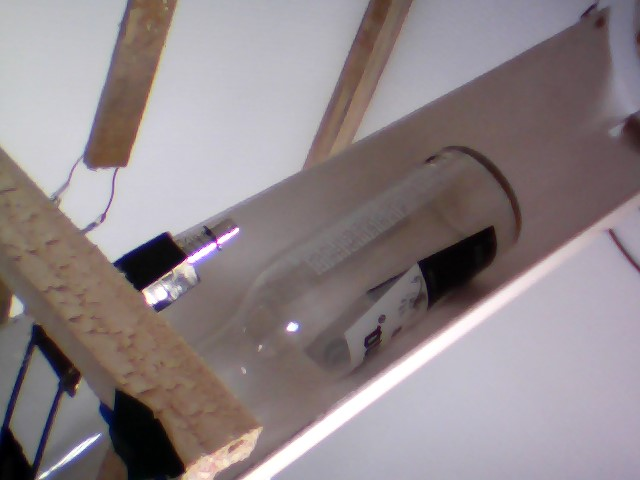vidrio: (183, 140, 532, 412)
